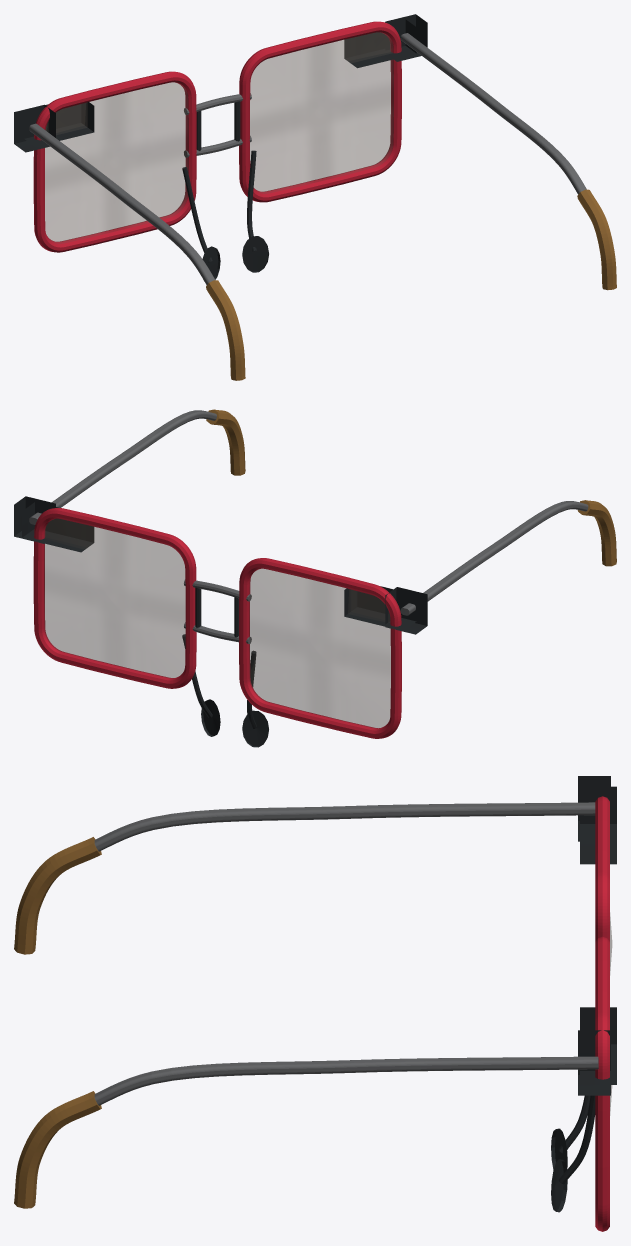
File: Accessories_glasses__0000.glb
3 renders of one model, top to bottom at view 1: azimuth 30°, elevation 25°; view 2: azimuth 150°, elevation 25°; view 3: azimuth 270°, elevation 25°, orthographic. The views are drawn at different scales.
Parts seen in each view (by area): view 1: front_frame::lens_right, front_frame::lens_left, front_frame::rim_right, front_frame::rim_left, temple_right::arm_right, temple_left::arm_left, front_frame::hinge_block_right, temple_left::ear_tip_left, temple_right::ear_tip_right, front_frame::hinge_block_left, temple_left::knuckle_left, temple_right::knuckle_right (+3 smaller); view 2: front_frame::lens_right, front_frame::lens_left, front_frame::rim_right, front_frame::rim_left, temple_left::arm_left, temple_right::arm_right, front_frame::hinge_block_right, front_frame::hinge_block_left, temple_left::ear_tip_left, temple_right::ear_tip_right, temple_left::knuckle_left, front_frame::nose_pad_left (+2 smaller); view 3: temple_right::arm_right, temple_left::arm_left, front_frame::rim_right, temple_left::ear_tip_left, temple_right::ear_tip_right, front_frame::rim_left, front_frame::hinge_block_left, front_frame::hinge_block_right, temple_right::knuckle_right, front_frame::nose_stem_right, front_frame::nose_pad_right.
Boxes of the visible parts, x1,y1,x2,y2 form: front_frame::lens_right: [250, 32, 393, 193]; front_frame::lens_left: [45, 82, 188, 243]; front_frame::rim_right: [239, 21, 401, 202]; front_frame::rim_left: [33, 71, 196, 252]; temple_right::arm_right: [400, 33, 586, 194]; temple_left::arm_left: [29, 123, 215, 284]; front_frame::hinge_block_right: [344, 19, 416, 68]; temple_left::ear_tip_left: [206, 280, 245, 380]; temple_right::ear_tip_right: [577, 189, 616, 290]; front_frame::hinge_block_left: [24, 102, 94, 146]; temple_left::knuckle_left: [14, 104, 55, 152]; temple_right::knuckle_right: [385, 14, 427, 61]; front_frame::lens_right: [44, 519, 185, 677]; front_frame::lens_left: [249, 569, 390, 727]; front_frame::rim_right: [33, 508, 196, 688]; front_frame::rim_left: [239, 558, 401, 738]; temple_left::arm_left: [400, 501, 588, 615]; temple_right::arm_right: [29, 410, 216, 524]; front_frame::hinge_block_right: [22, 502, 94, 552]; front_frame::hinge_block_left: [344, 586, 416, 630]; temple_left::ear_tip_left: [577, 500, 616, 566]; temple_right::ear_tip_right: [206, 409, 245, 475]; temple_left::knuckle_left: [385, 587, 427, 634]; front_frame::nose_pad_left: [242, 710, 268, 747]; temple_right::arm_right: [94, 1056, 598, 1105]; temple_left::arm_left: [94, 802, 595, 851]; front_frame::rim_right: [595, 936, 609, 1231]; temple_left::ear_tip_left: [14, 837, 101, 954]; temple_right::ear_tip_right: [14, 1091, 101, 1208]; front_frame::rim_left: [595, 796, 609, 941]; front_frame::hinge_block_left: [580, 786, 616, 864]; front_frame::hinge_block_right: [580, 1007, 616, 1084]; temple_right::knuckle_right: [578, 1030, 610, 1095]; front_frame::nose_stem_right: [558, 1095, 595, 1184]; front_frame::nose_pad_right: [551, 1159, 567, 1212].
Bounding box in the file's own units: 0.1585 × 0.0778 × 0.1469.
Materials: 5 (4 with a texture image).
